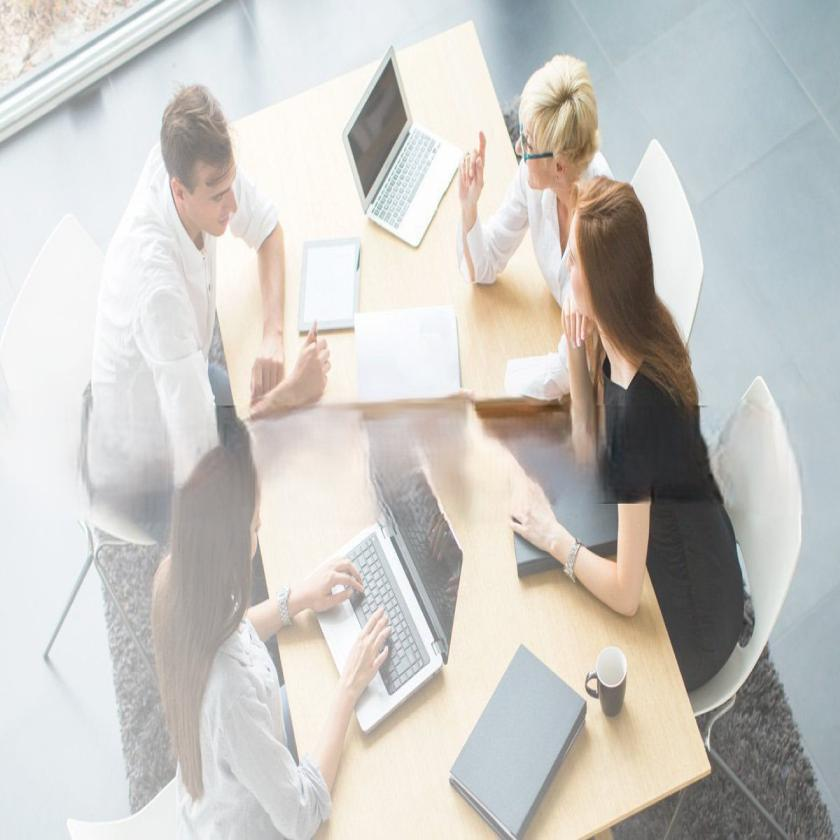Sin_casco: (169, 435, 264, 640), (562, 170, 658, 344), (158, 74, 240, 247), (511, 46, 600, 198)
